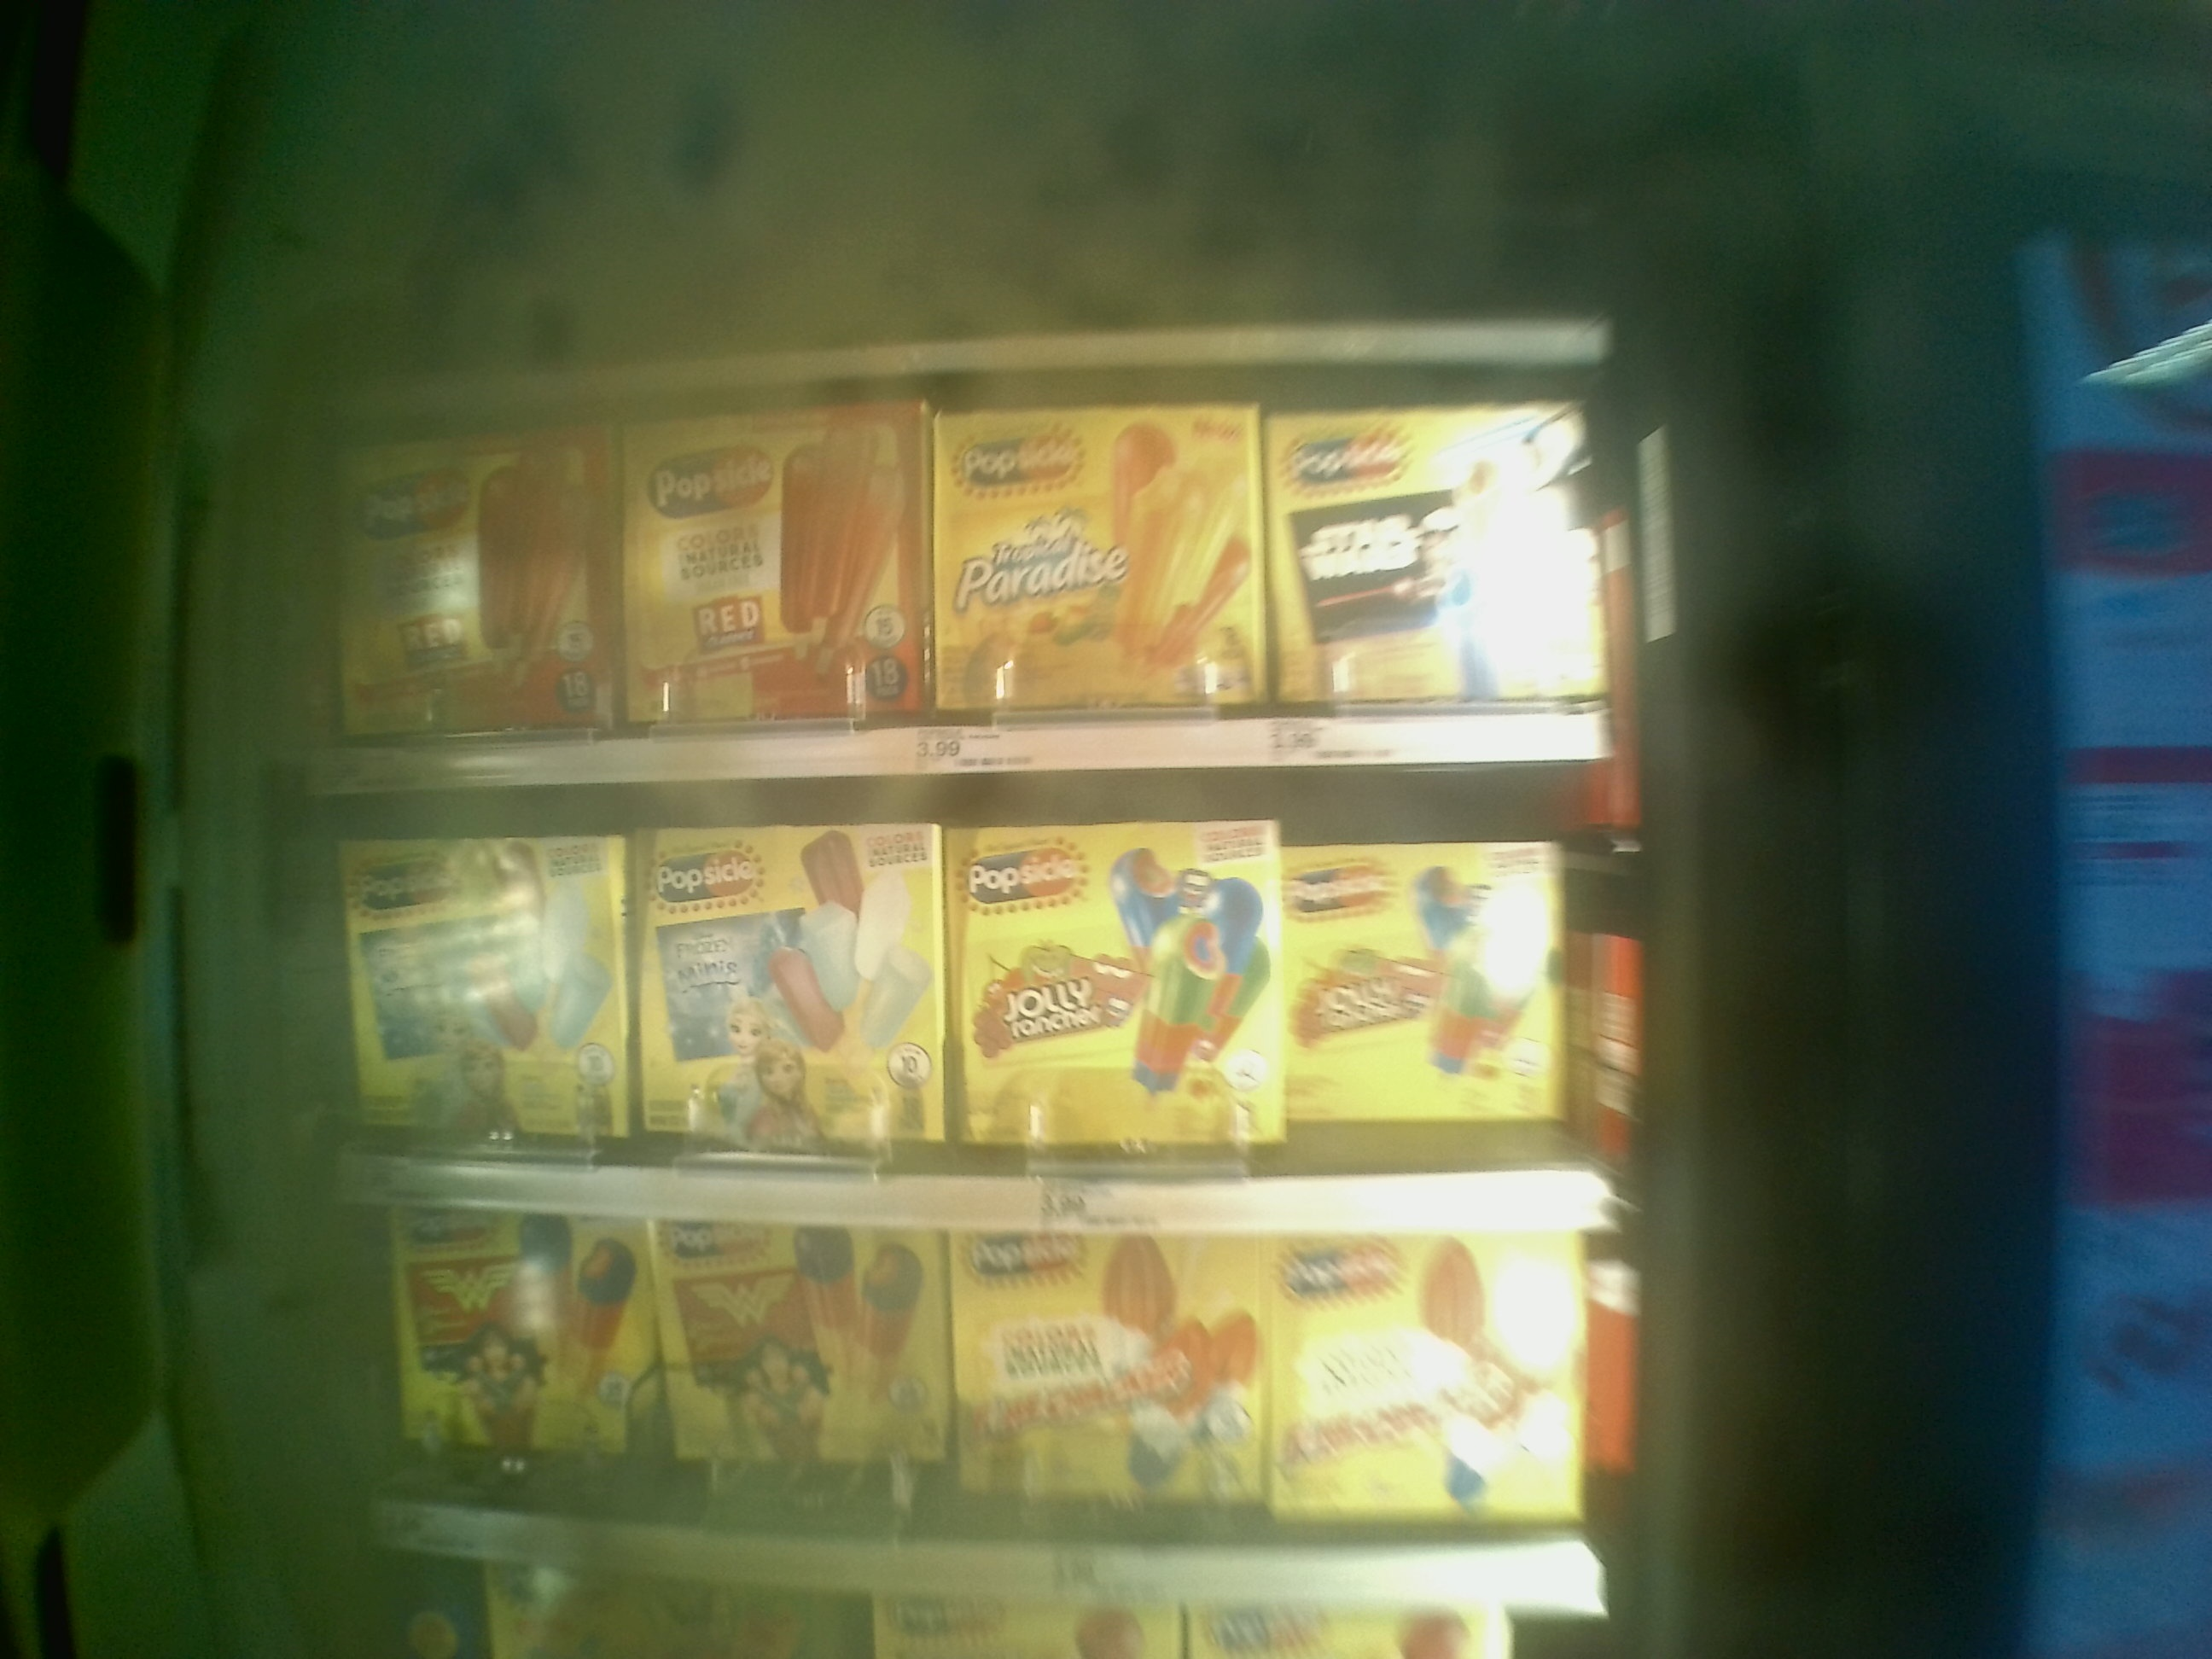frozen-food-shelf: (319, 796, 1615, 1229), (296, 376, 1618, 793)
